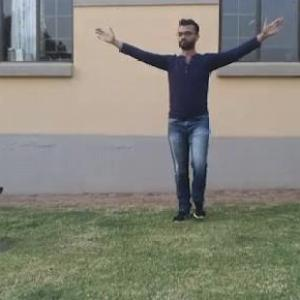takeoff: (106, 22, 275, 213)
